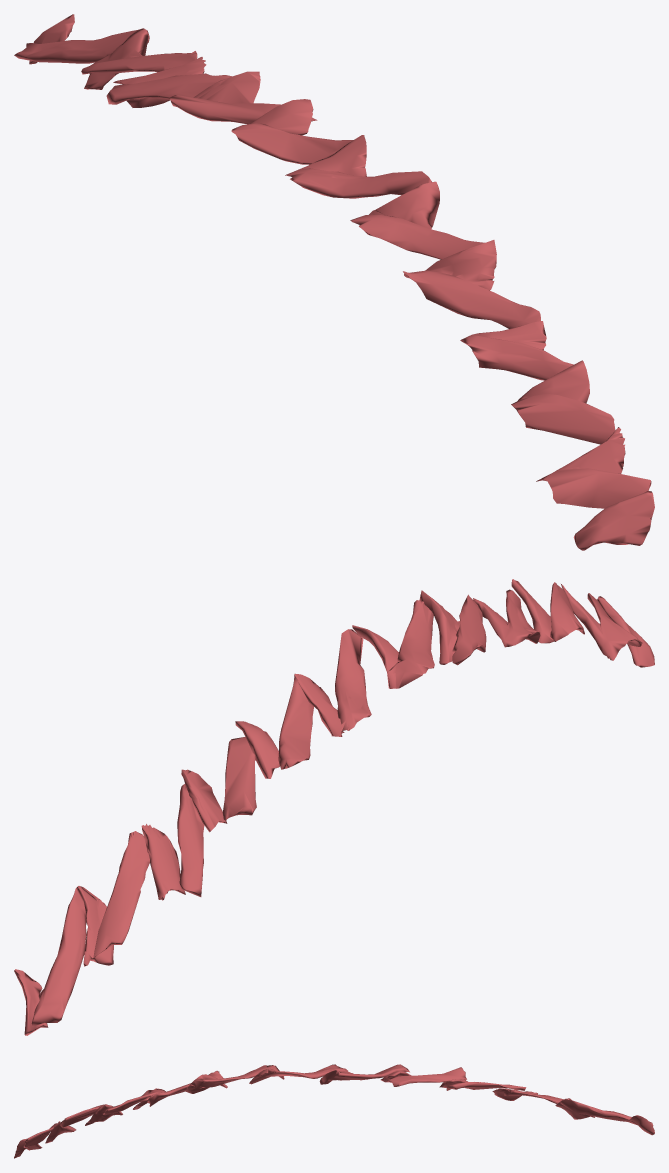
The picture shows the model from 3 angles, top to bottom: view 1: azimuth 30°, elevation 25°; view 2: azimuth 150°, elevation 25°; view 3: azimuth 270°, elevation 25°; orthographic projection. The views are drawn at different scales.
Parts seen in each view (by area): view 1: 右侧胸多裂肌; view 2: 右侧胸多裂肌; view 3: 右侧胸多裂肌.
Boxes of the visible parts, left/top/right/bottom form: 右侧胸多裂肌: left=14, top=14, right=654, bottom=550; 右侧胸多裂肌: left=14, top=579, right=654, bottom=1035; 右侧胸多裂肌: left=14, top=1064, right=654, bottom=1158.
Size of the model in its own units: 0.0386 by 0.0772 by 0.4536.
